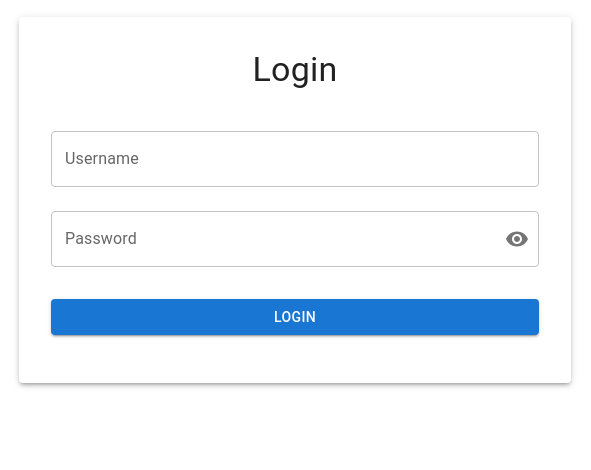
it: Login › clears error when user starts typing
Trigger error
In the field labelled "Username": (295, 159) [51,131,539,187], type "testuser"
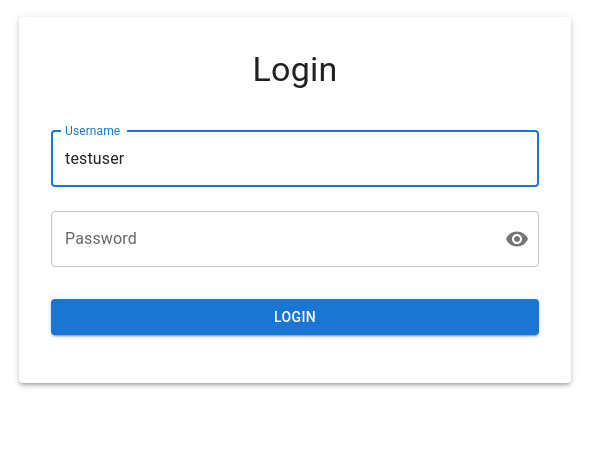
In the password field labelled "Password": (270, 239) [51,211,489,267], type "wrong"
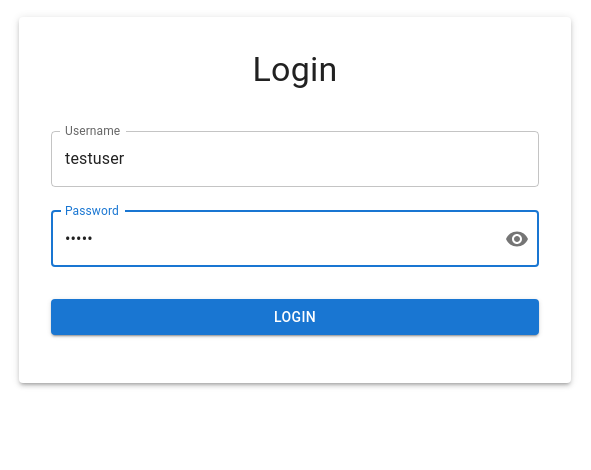
Click the button "Login": (295, 317) [51,299,539,336]
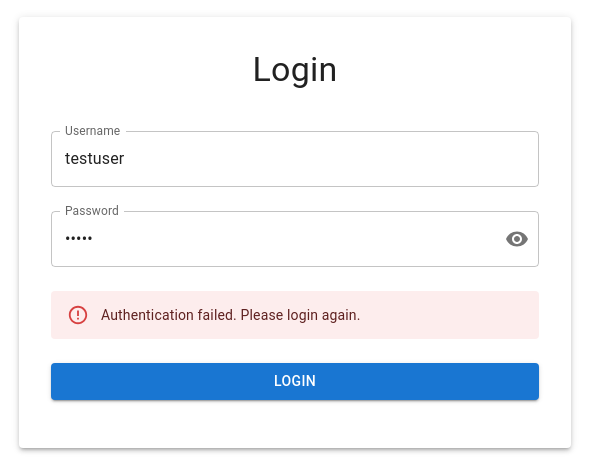
expect the text "Authentication failed. Please login again." is shown: met, box [101,307,361,323]
Start typing to clear error
In the field labelled "Username": (295, 159) [51,131,539,187], type "x"
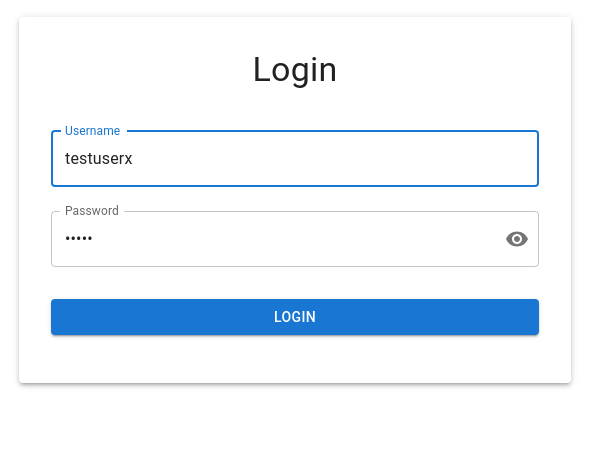
expect the text "Authentication" is gone: met
